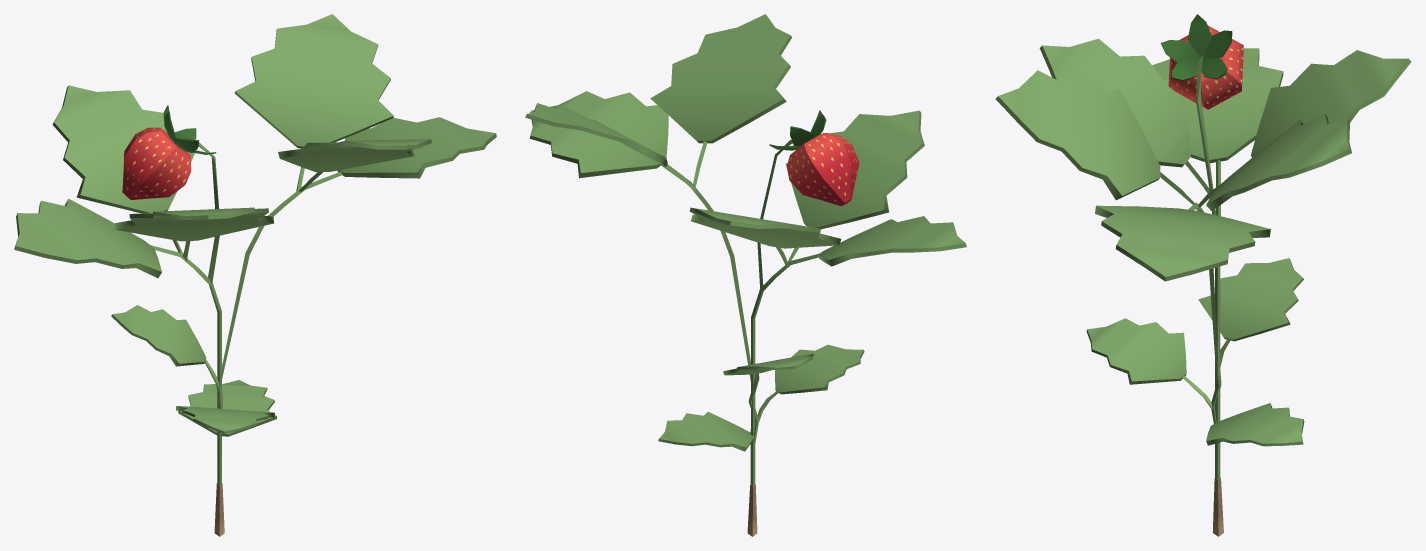
The model's file is plant4.fbx.
3 views of the same model, side by side, from view 1: azimuth 30°, elevation 25°; view 2: azimuth 150°, elevation 25°; view 3: azimuth 270°, elevation 25° (orthographic). The views are drawn at different scales.
Parts seen in each view (by area): view 1: polySurface2295; view 2: polySurface2295; view 3: polySurface2295.
Part boxes in pixels (<box>): polySurface2295: <box>14,14,496,536</box>; polySurface2295: <box>525,14,966,536</box>; polySurface2295: <box>995,14,1411,536</box>.
Bounding box in the file's own units: 3.99 × 3.64 × 2.81.
Materials: 1 (1 with a texture image).
